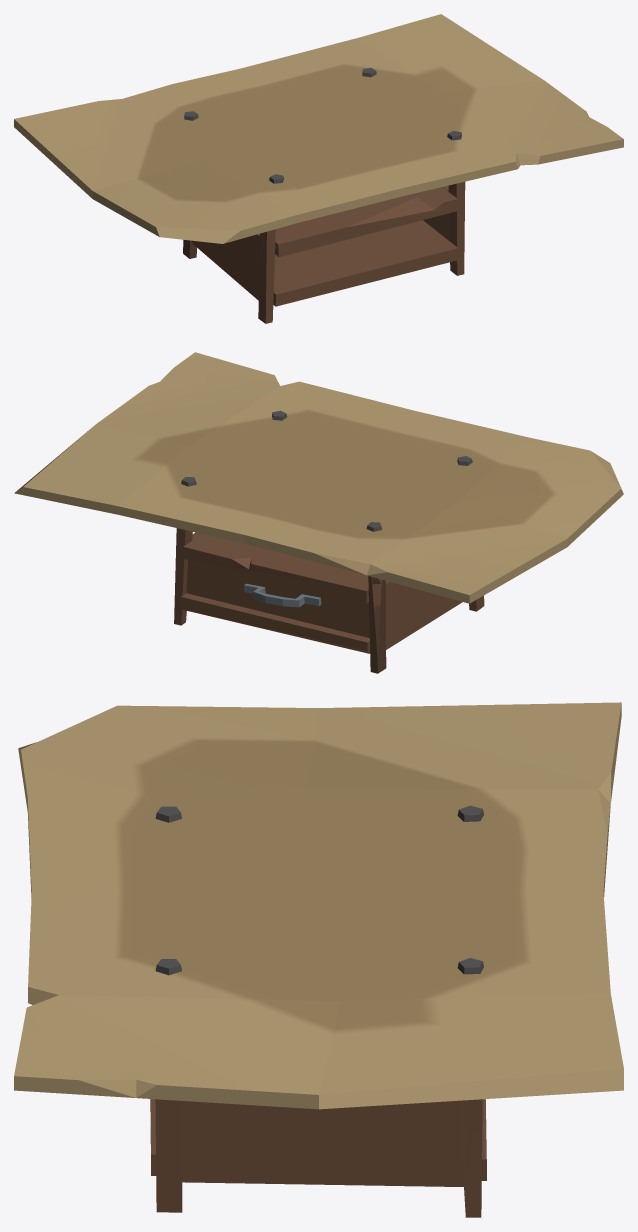
Rendered from SM_Prop_Makeshift_Table_02.fbx.
3 renders of one model, top to bottom at view 1: azimuth 30°, elevation 25°; view 2: azimuth 150°, elevation 25°; view 3: azimuth 270°, elevation 25°, orthographic. The views are drawn at different scales.
Visible parts, largest first — view 1: SM_Prop_Makeshift_Table_02; view 2: SM_Prop_Makeshift_Table_02; view 3: SM_Prop_Makeshift_Table_02.
Part boxes in pixels (<box>): SM_Prop_Makeshift_Table_02: <box>14,14,623,323</box>; SM_Prop_Makeshift_Table_02: <box>14,352,623,673</box>; SM_Prop_Makeshift_Table_02: <box>14,702,623,1217</box>.
Size of the model in its own units: 258 by 76.54 by 172.
